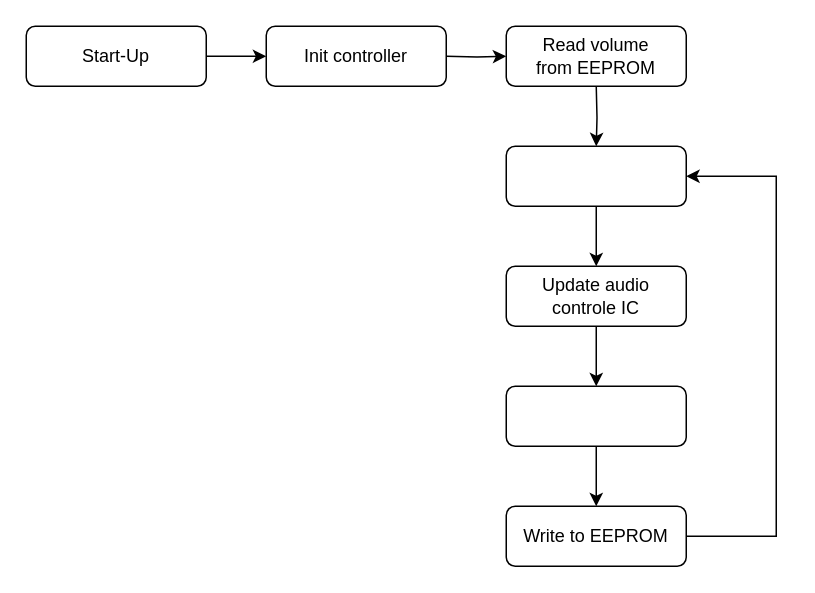
This 815x593 diagram has some shape labels left out. Each missing label, with the centre of its shape:
Read values: the point at 595,175
Update LCD: the point at 595,415
